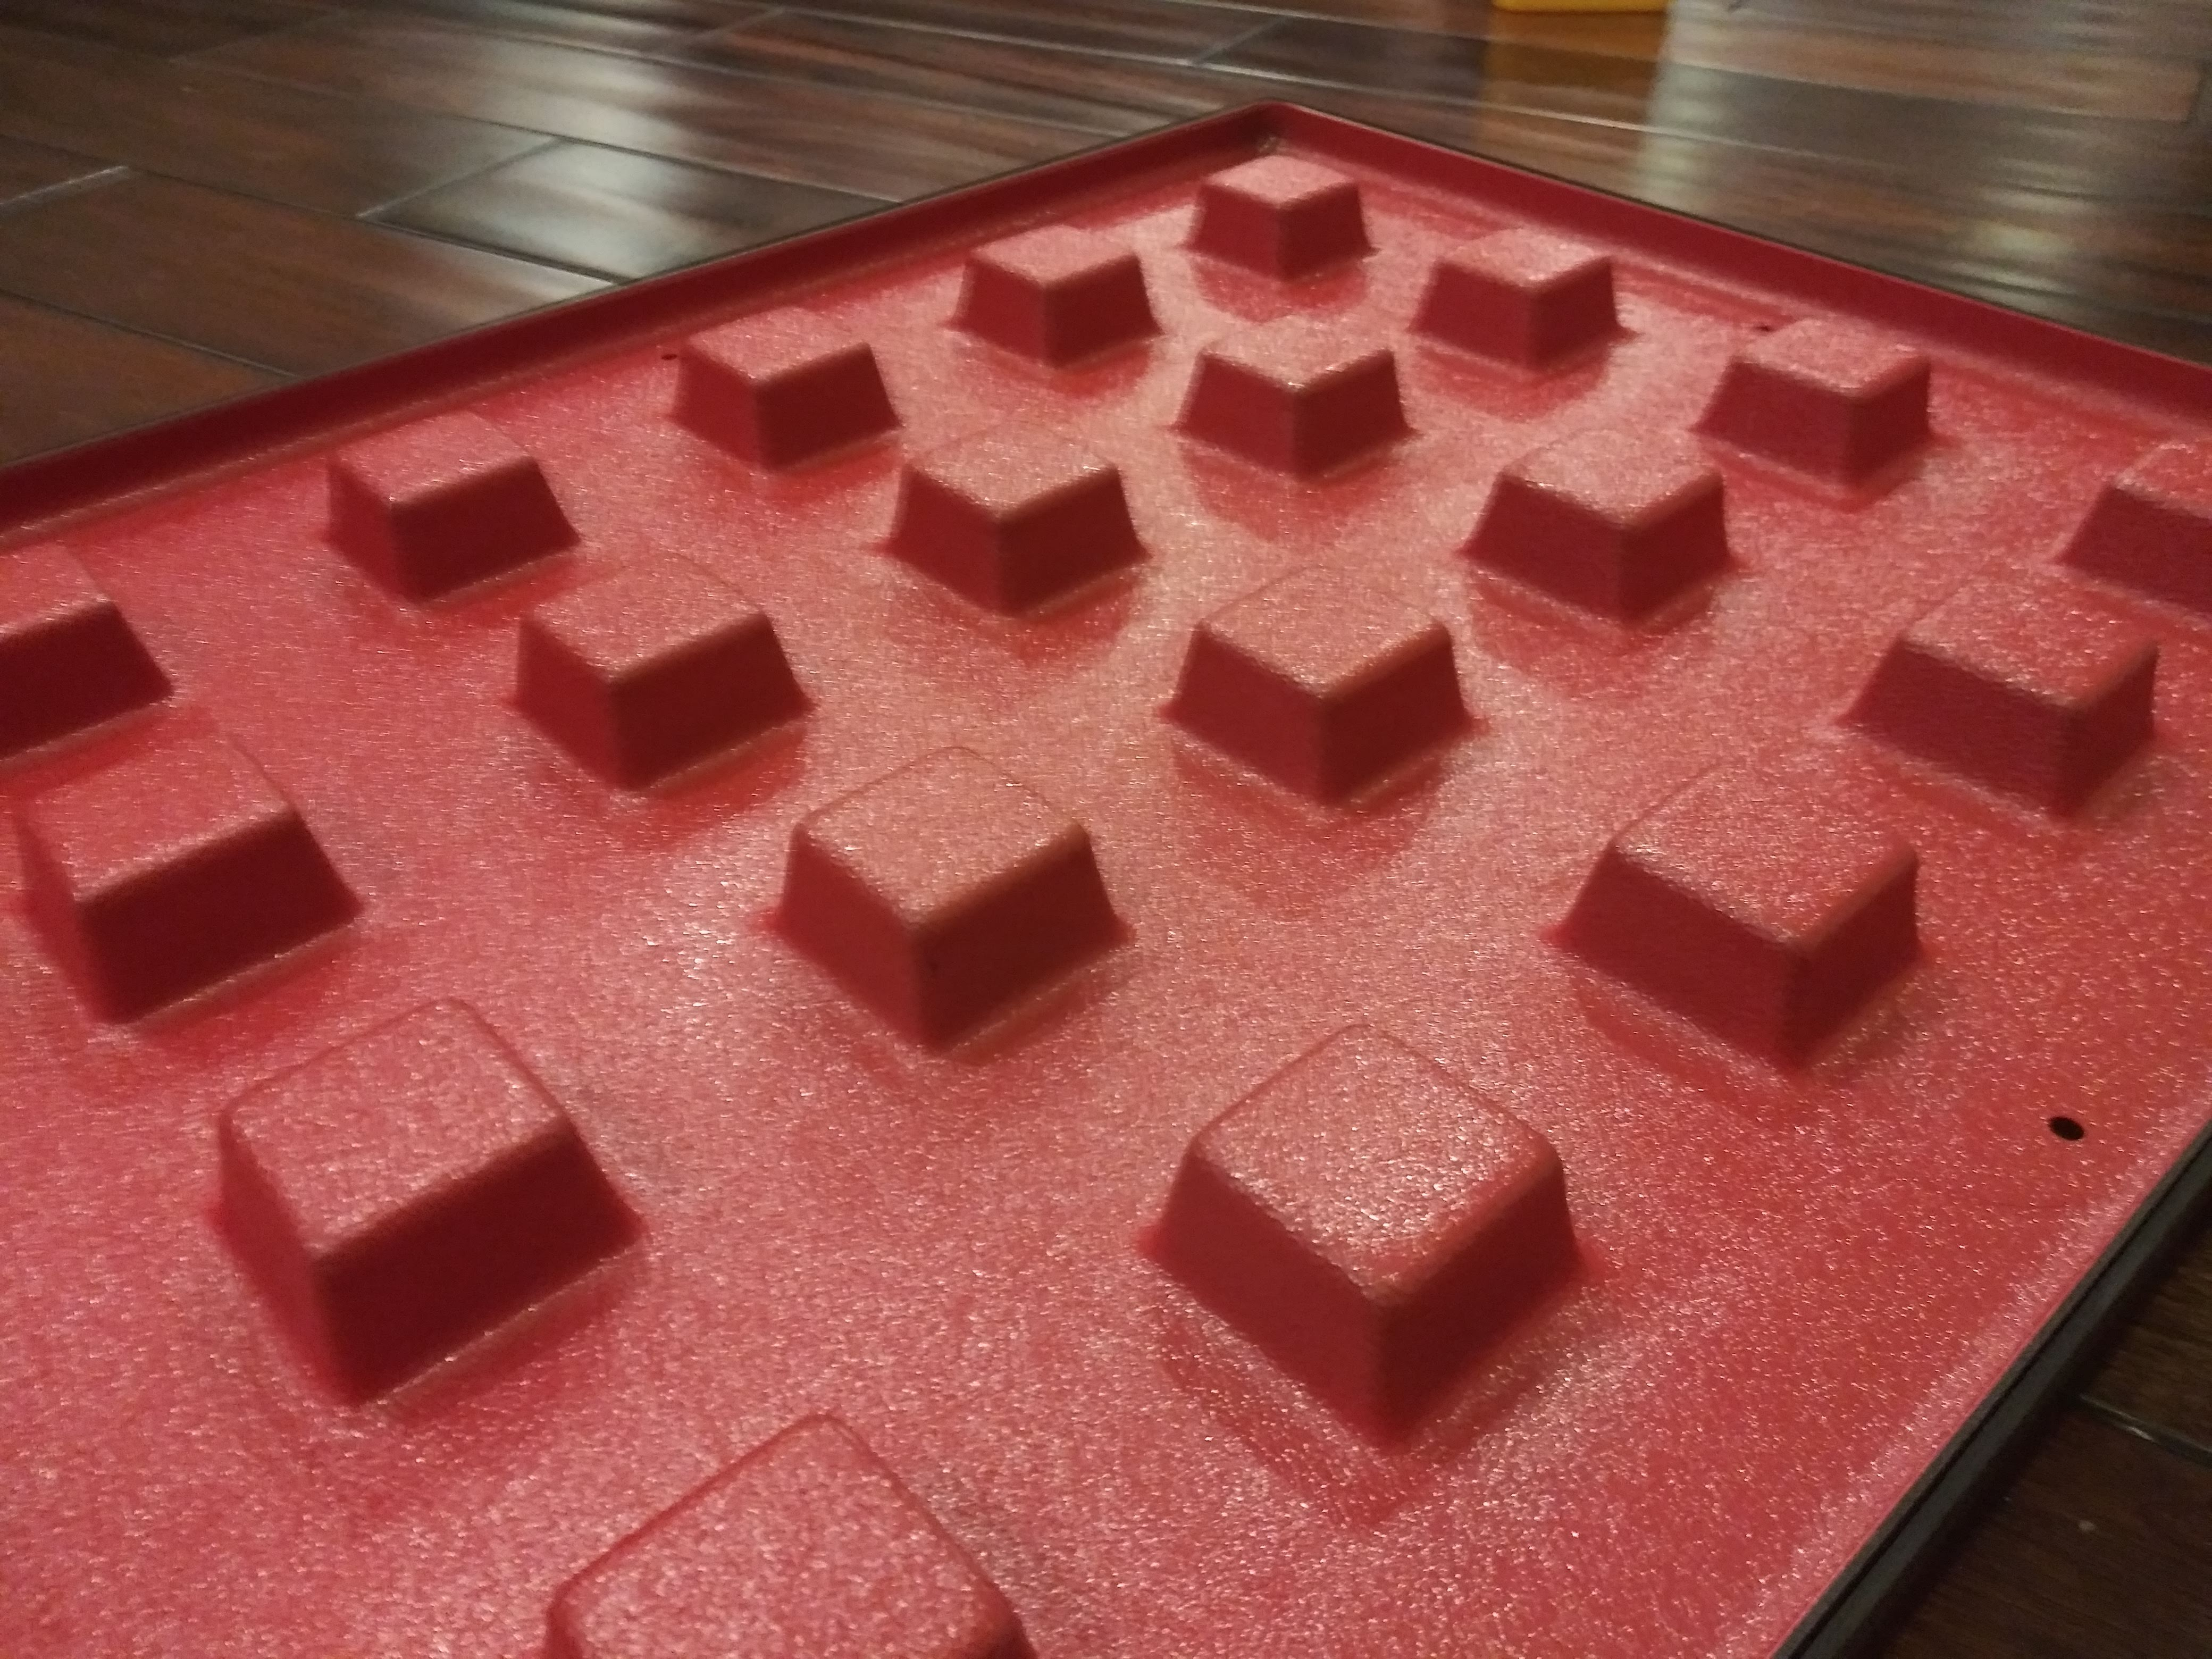red foundation: (47, 174, 2085, 1612)
